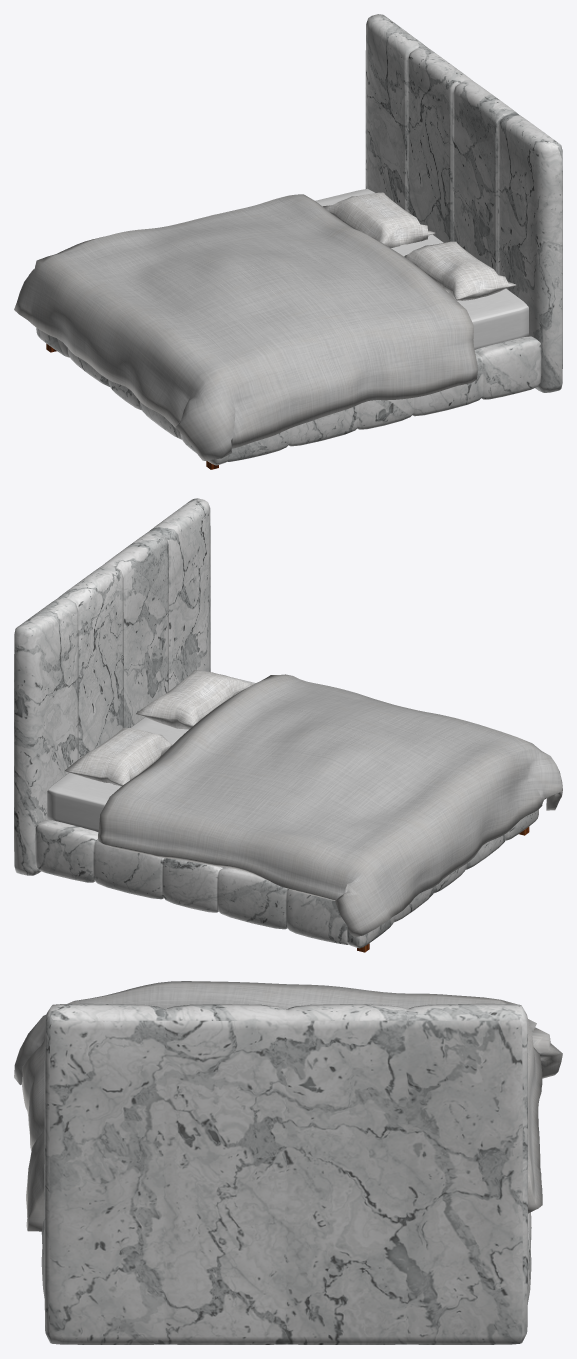
3 renders of one model, top to bottom at view 1: azimuth 30°, elevation 25°; view 2: azimuth 150°, elevation 25°; view 3: azimuth 270°, elevation 25°, orthographic. The views are drawn at different scales.
Parts seen in each view (by area): view 1: Duvet, Bed, Pillows, Matress; view 2: Duvet, Bed, Pillows, Matress; view 3: Bed, Duvet.
Boxes of the visible parts, bbox=[...] form: Duvet: bbox=[14, 194, 478, 461]; Bed: bbox=[36, 14, 562, 465]; Pillows: bbox=[323, 192, 516, 300]; Matress: bbox=[315, 188, 528, 349]; Duvet: bbox=[98, 674, 562, 937]; Bed: bbox=[14, 498, 538, 948]; Pillows: bbox=[65, 670, 252, 786]; Matress: bbox=[47, 677, 255, 831]; Bed: bbox=[41, 1003, 531, 1344]; Duvet: bbox=[14, 981, 562, 1231].
Size of the model in its own units: 2.42 by 1.51 by 2.27.
